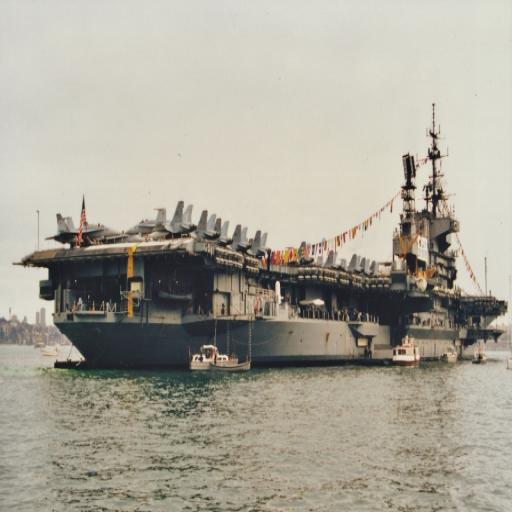Portanaves: (15, 93, 509, 377)
